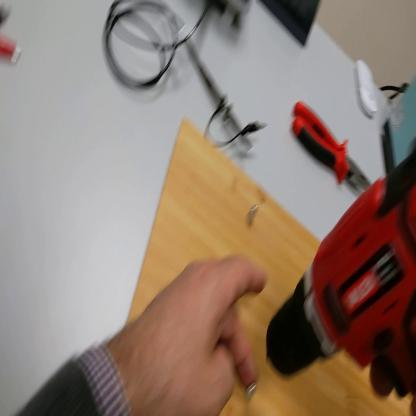electric screwdriver: (265, 140, 415, 406)
hand: (118, 253, 267, 416), (372, 327, 416, 414)
oscilloscope: (210, 3, 251, 26)
oscilloscope probe tip: (189, 41, 252, 148)
pliers: (293, 100, 373, 193)
welder station: (384, 79, 416, 174)
working area: (126, 115, 416, 416)
